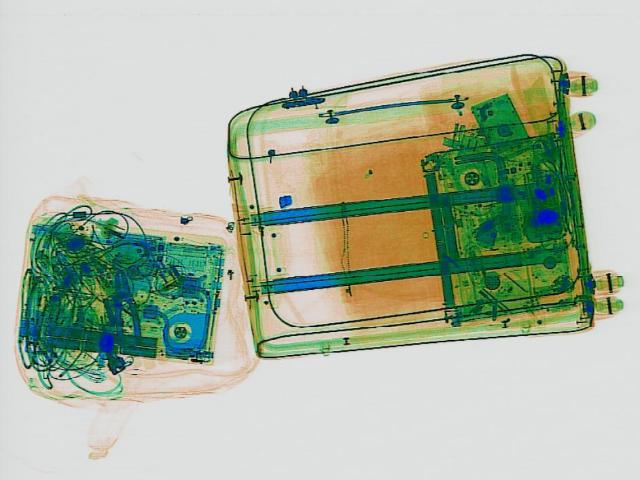Pliers: (107, 267, 141, 348)
